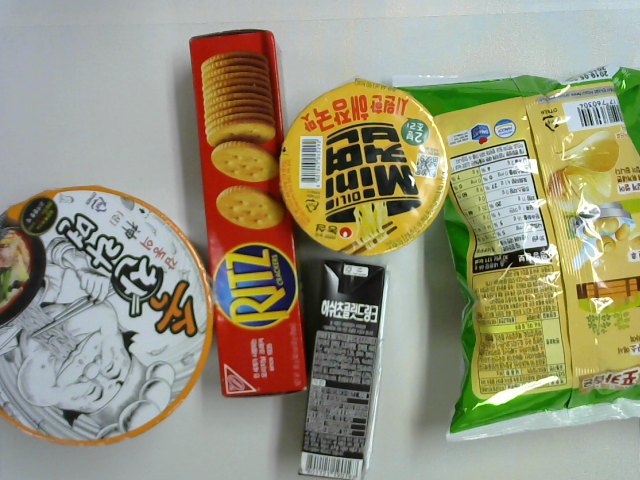Hejangchan: (1, 180, 217, 448)
Hejangmini: (274, 78, 453, 262)
Hush_Choco_Drink: (301, 258, 387, 480)
Pocachip_Onion: (390, 71, 640, 445)
Ritz_Cracker: (184, 29, 308, 402)
